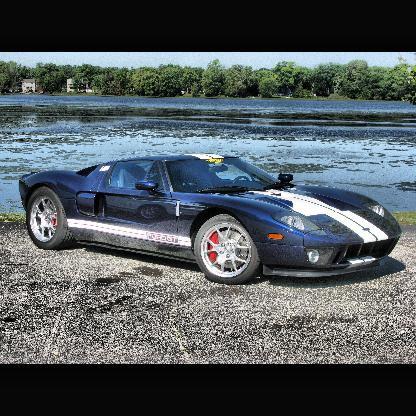Ford GT Coupe 2006: (20, 156, 403, 285)
